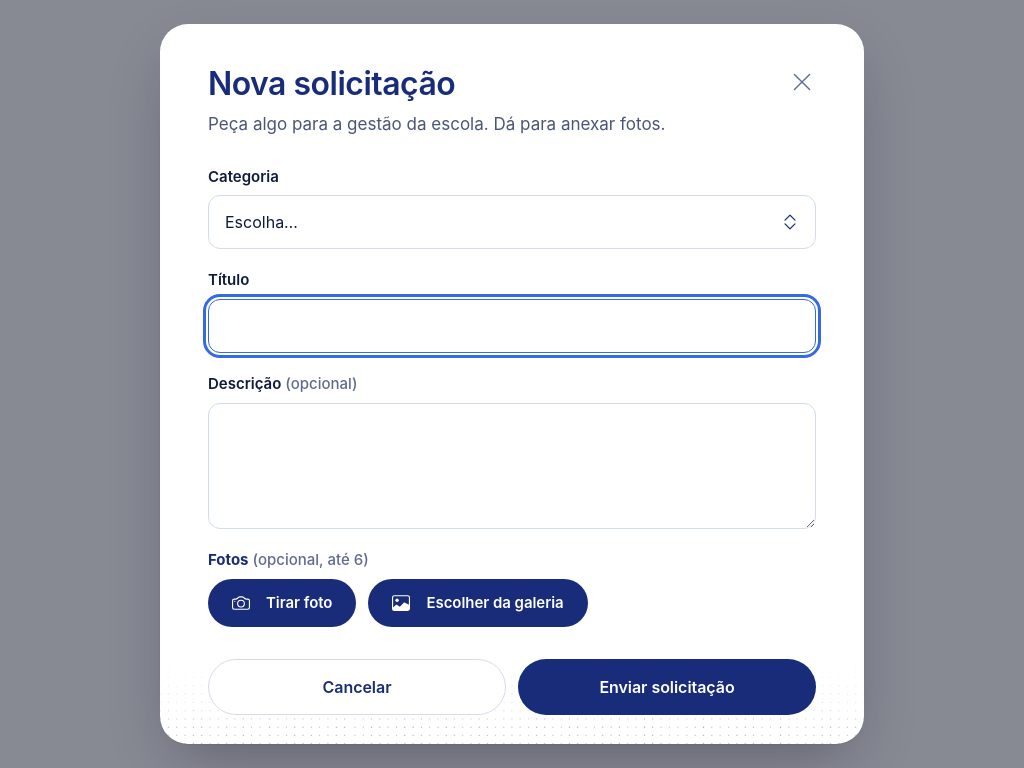
Nova solicitacao › erro da API fica na janela, com o texto em portugues, e nada e fechado
Select "Evento" in the dropdown labelled "Categoria". click: (512, 222)
box: [208,195,816,249]
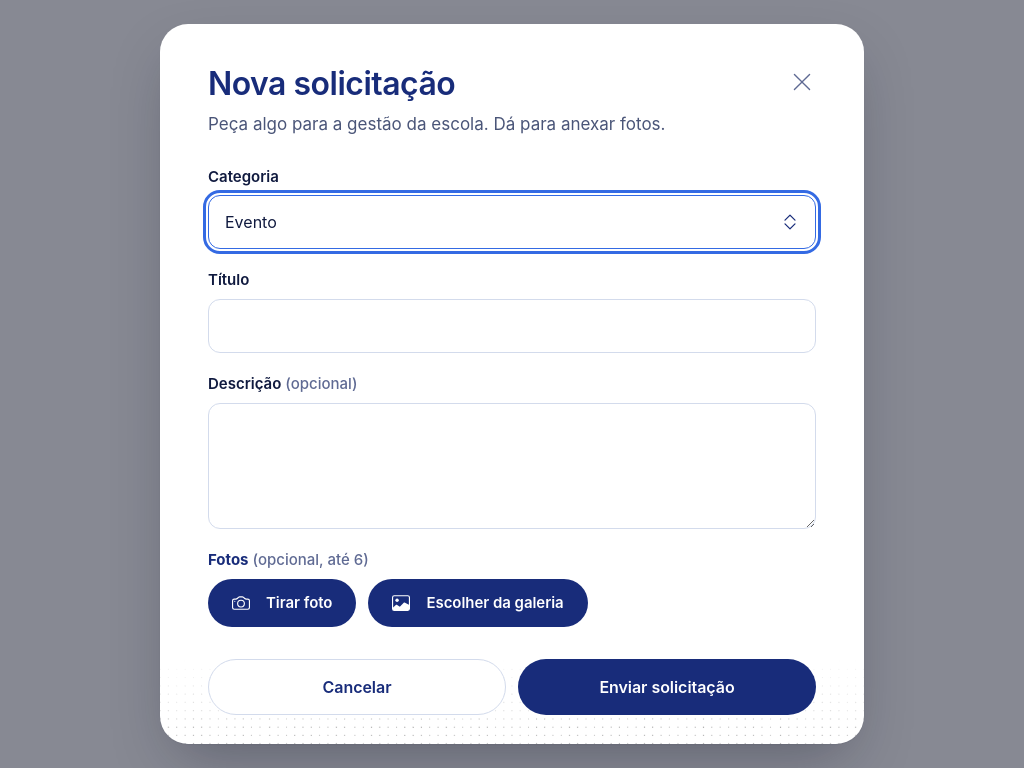
Type "x" into the field labelled "Título". click: (512, 326)
box: [208,299,816,353]
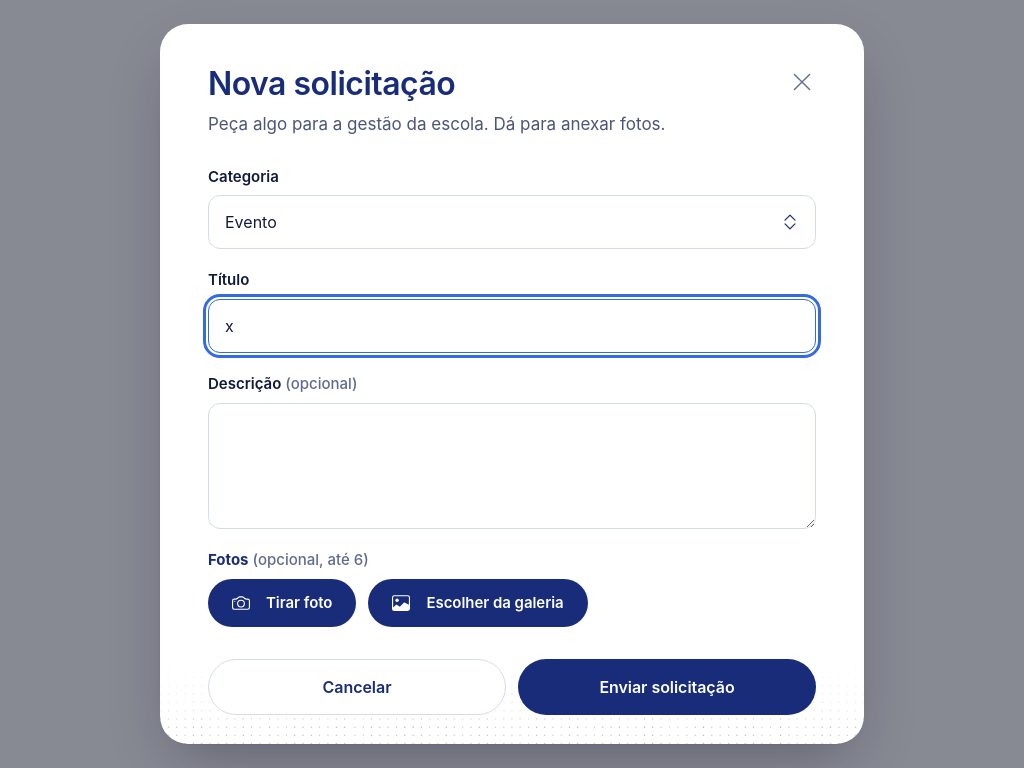
Click the button "Enviar solicitação". click: (667, 686)
box: [518,658,816,714]
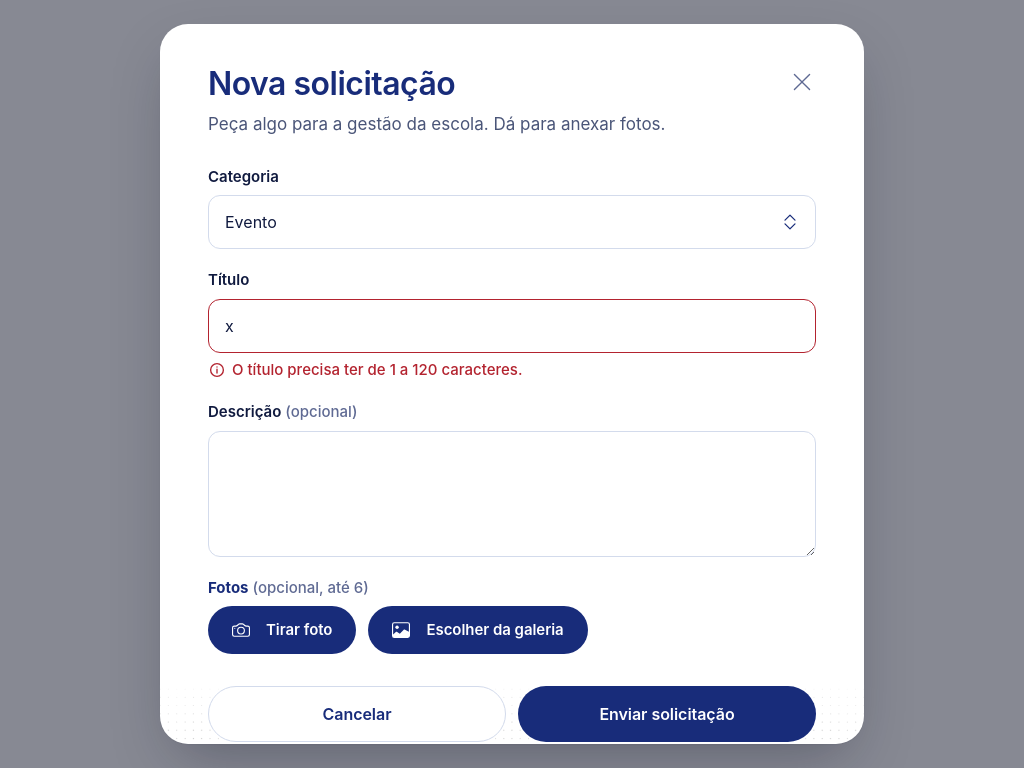
Expected: the button "Enviar solicitação" is enabled, [518,686,816,742]
Expected: the text "O título precisa ter de 1 a 120 caracteres." is shown, [208,360,522,379]
